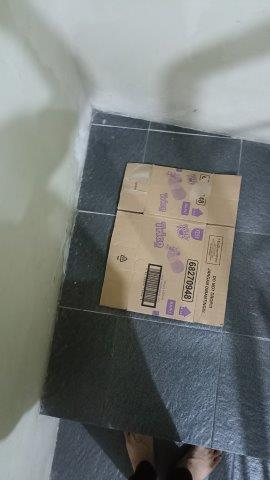kardus: (100, 163, 240, 326)
